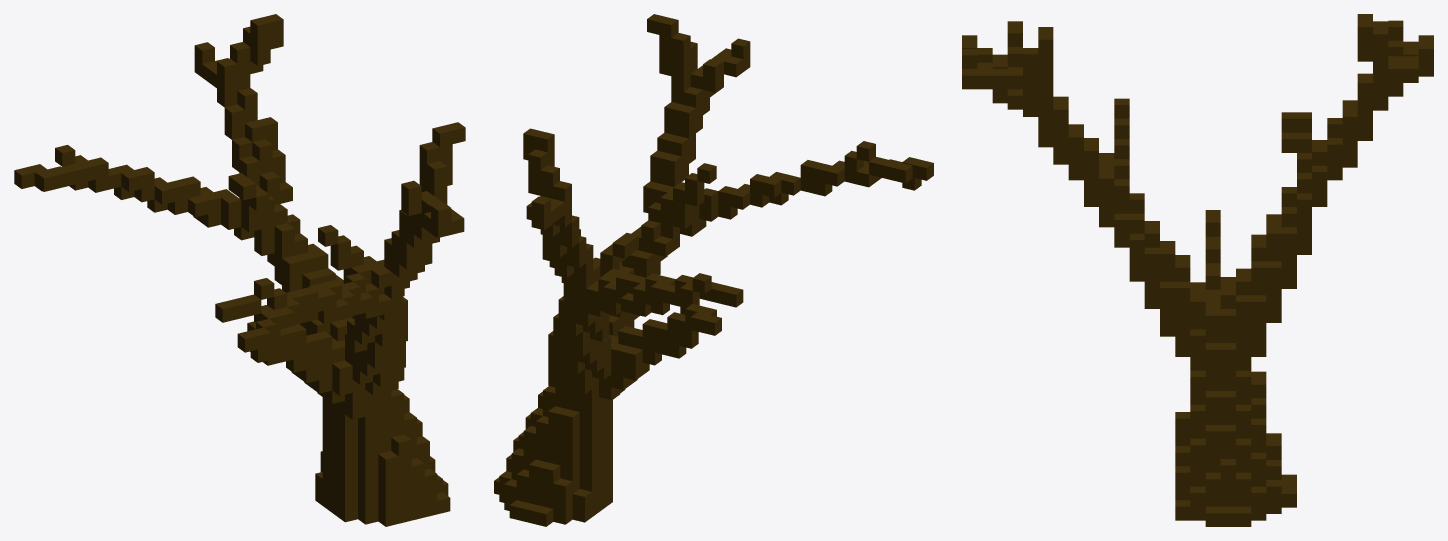
File: DeadTree1-1-1.obj
3 renders of one model, left to right at view 1: azimuth 30°, elevation 25°; view 2: azimuth 150°, elevation 25°; view 3: azimuth 270°, elevation 25°, orthographic. The views are drawn at different scales.
Visible parts, largest first — view 1: 1; view 2: 1; view 3: 1.
Boxes of the visible parts, x1,y1,x2,y2 form: 1: [14, 14, 465, 526]; 1: [494, 14, 933, 526]; 1: [962, 14, 1433, 526].
Size of the model in its own units: 2.5 by 3.3 by 3.1.
Materials: 1 (1 with a texture image).
